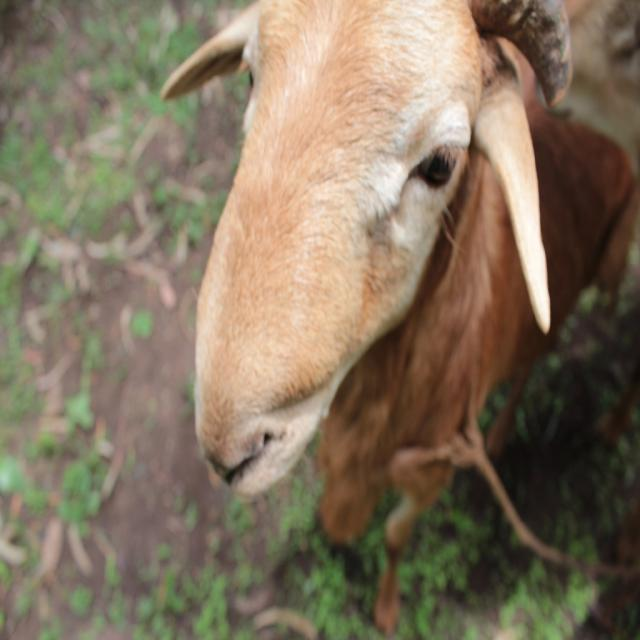Goat: (156, 0, 630, 639)
